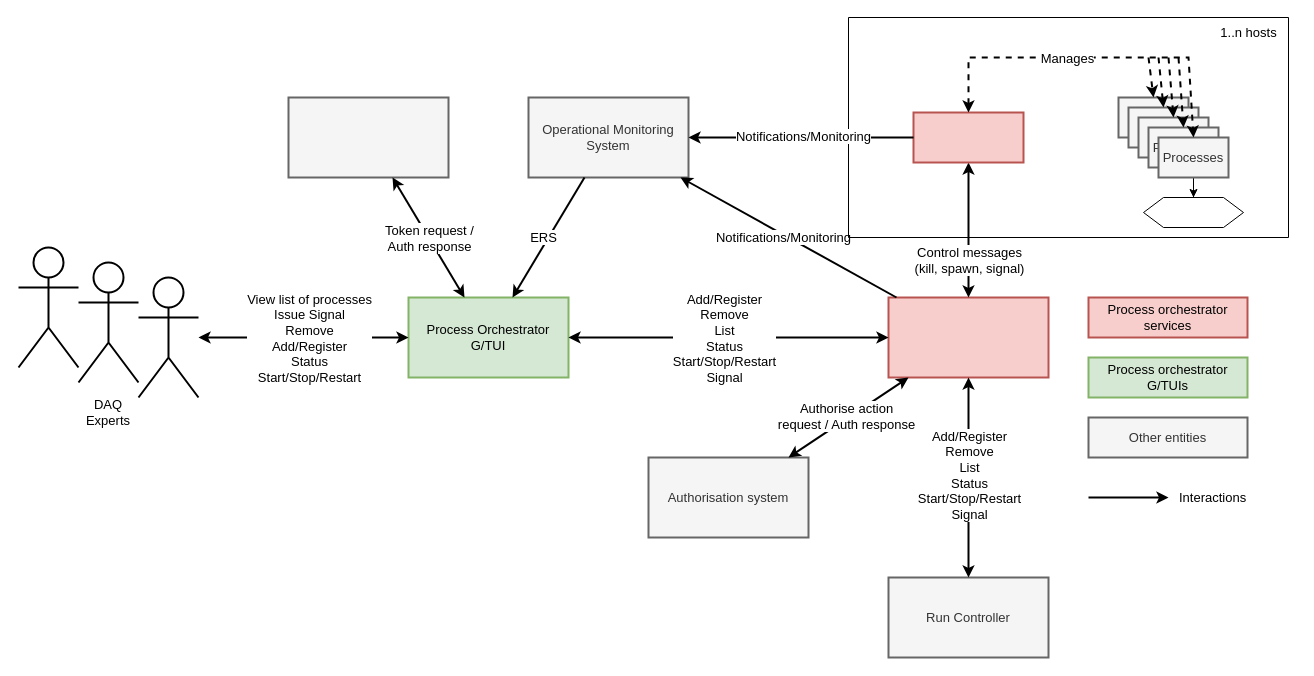
This 1314x676 diagram has some shape labels left out. The centre of each missing label's shape, as x and y in pixels:
"Authentication System" goes at point 368,137.
"Local Process Controller" goes at point 968,137.
"Process Orchestrator Service" goes at point 968,337.
"stdeout/stderr" goes at point 1193,212.
